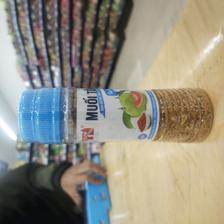TayNinh_blue: (18, 87, 215, 144)
